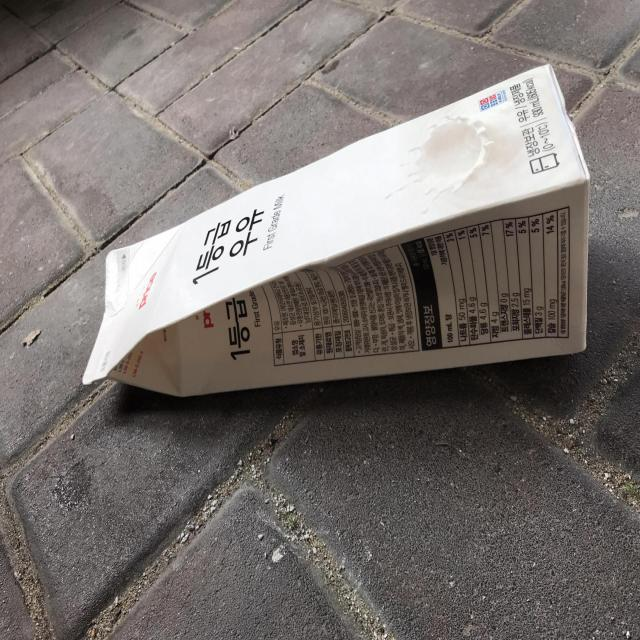paperpack: (82, 64, 590, 397)
